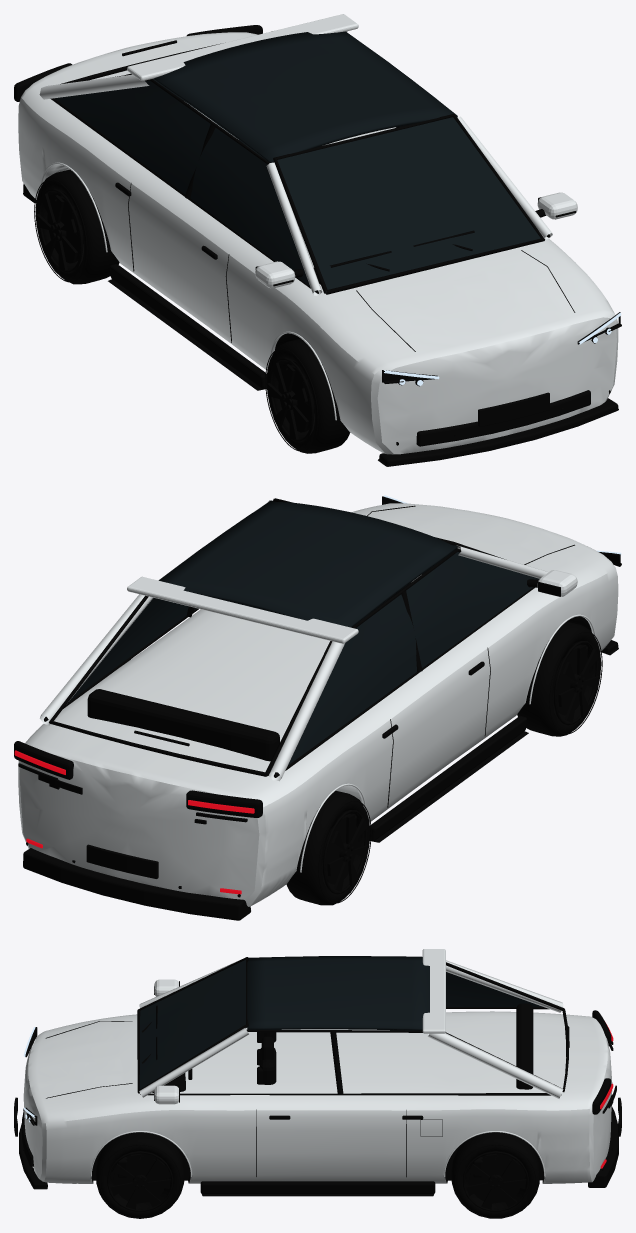
3 views of the same model, one above another, from view 1: azimuth 30°, elevation 25°; view 2: azimuth 150°, elevation 25°; view 3: azimuth 270°, elevation 25° (orthographic). The views are drawn at different scales.
Parts seen in each view (by area): view 1: chassis.001__Automotive clearcoat, chassis.001__Solar glass, chassis.001__Vehicle detail atlas, wheel_RL.001__Vehicle detail atlas, wheel_FL.001__Vehicle detail atlas; view 2: chassis.001__Automotive clearcoat, chassis.001__Solar glass, chassis.001__Vehicle detail atlas, wheel_FL.001__Vehicle detail atlas, wheel_RL.001__Vehicle detail atlas, chassis.001__Red LED optics; view 3: chassis.001__Automotive clearcoat, chassis.001__Solar glass, chassis.001__Vehicle detail atlas, wheel_FR.001__Vehicle detail atlas, wheel_RR.001__Vehicle detail atlas.
Boxes of the visible parts, left/top/right/bottom form: chassis.001__Automotive clearcoat: left=18, top=14, right=618, bottom=454; chassis.001__Solar glass: left=55, top=31, right=540, bottom=292; chassis.001__Vehicle detail atlas: left=14, top=25, right=620, bottom=466; wheel_RL.001__Vehicle detail atlas: left=34, top=169, right=119, bottom=284; wheel_FL.001__Vehicle detail atlas: left=265, top=338, right=350, bottom=453; chassis.001__Automotive clearcoat: left=18, top=500, right=618, bottom=906; chassis.001__Solar glass: left=69, top=500, right=539, bottom=765; chassis.001__Vehicle detail atlas: left=14, top=496, right=620, bottom=920; wheel_FL.001__Vehicle detail atlas: left=517, top=621, right=602, bottom=736; wheel_RL.001__Vehicle detail atlas: left=286, top=790, right=371, bottom=905; chassis.001__Red LED optics: left=14, top=750, right=254, bottom=894; chassis.001__Automotive clearcoat: left=23, top=949, right=612, bottom=1183; chassis.001__Solar glass: left=139, top=956, right=542, bottom=1089; chassis.001__Vehicle detail atlas: left=14, top=957, right=621, bottom=1196; wheel_FR.001__Vehicle detail atlas: left=96, top=1132, right=184, bottom=1218; wheel_RR.001__Vehicle detail atlas: left=451, top=1132, right=539, bottom=1218.
Size of the model in its own units: 2.25 by 1.64 by 4.94.
Materials: 8 (6 with a texture image).
